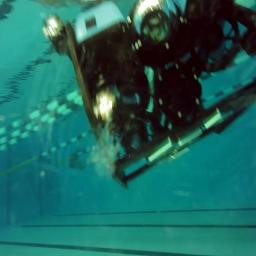front: (42, 0, 256, 179)
